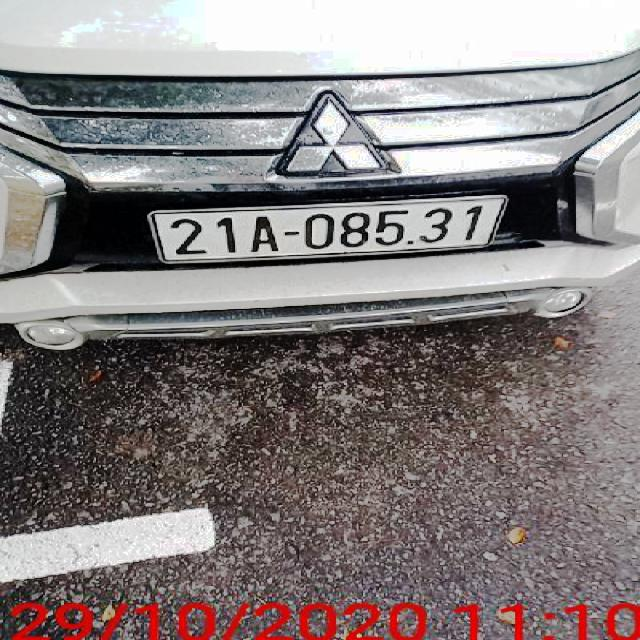license_plate: (152, 194, 507, 262)
